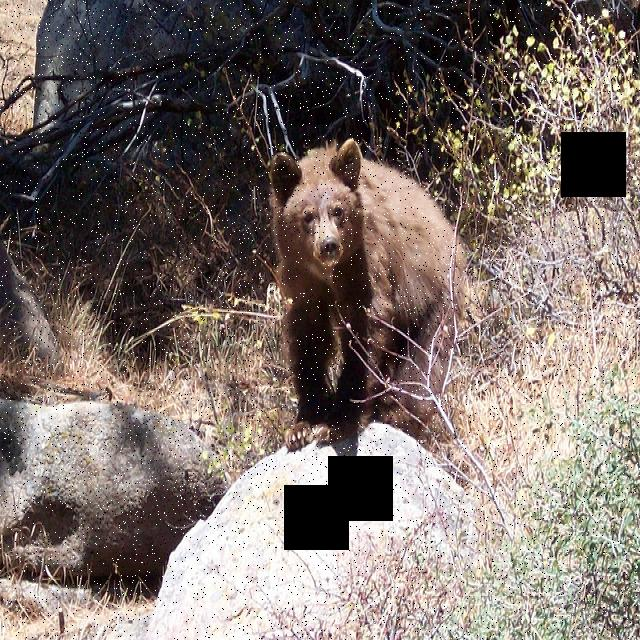Bear: (262, 134, 478, 450)
